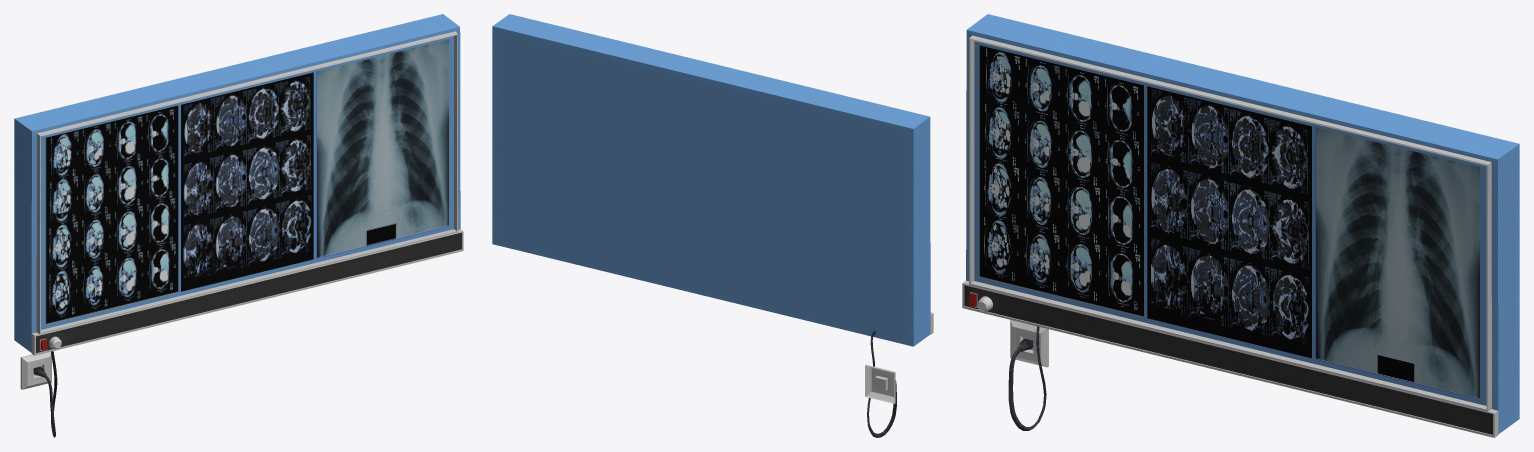
File: Xray.fbx
The picture shows the model from 3 angles, left to right: view 1: azimuth 30°, elevation 25°; view 2: azimuth 150°, elevation 25°; view 3: azimuth 330°, elevation 25°; orthographic projection. The views are drawn at different scales.
Visible parts, largest first — view 1: Xray; view 2: Xray; view 3: Xray.
Part boxes in pixels (x1,y1,x2,y2): Xray: (14, 14, 463, 437); Xray: (492, 14, 933, 437); Xray: (962, 14, 1519, 437).
Size of the model in its own units: 128 by 92.58 by 15.76.
